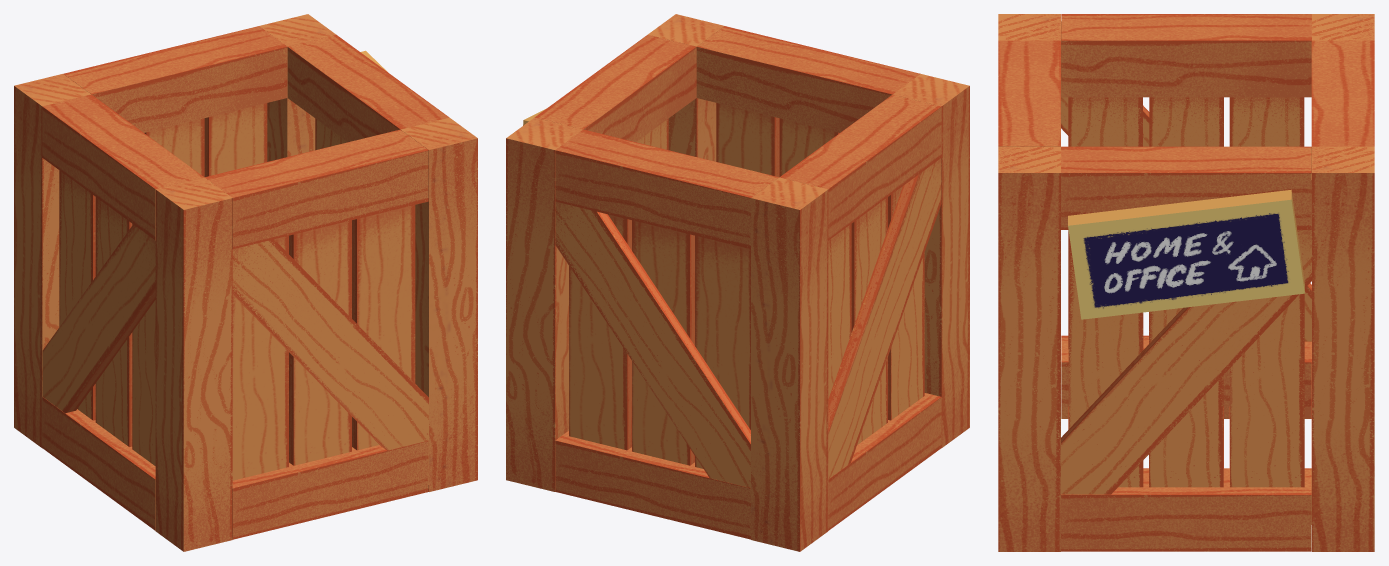
Rendered from home_office_crate.obj.
3 views of the same model, side by side, from view 1: azimuth 30°, elevation 25°; view 2: azimuth 150°, elevation 25°; view 3: azimuth 270°, elevation 25° (orthographic). The views are drawn at different scales.
Parts seen in each view (by area): view 1: home_office_crate_Cube.008; view 2: home_office_crate_Cube.008; view 3: home_office_crate_Cube.008.
Part boxes in pixels (box(x1,y1,x2,y2)): home_office_crate_Cube.008: box(14, 14, 477, 551); home_office_crate_Cube.008: box(506, 14, 969, 551); home_office_crate_Cube.008: box(998, 14, 1374, 551).
Bounding box in the file's own units: 3.85 × 4 × 3.6.
